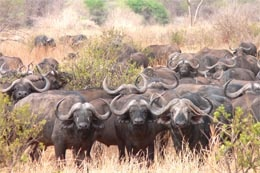buffalo: (15, 92, 110, 164), (86, 97, 159, 163), (150, 96, 223, 162)
